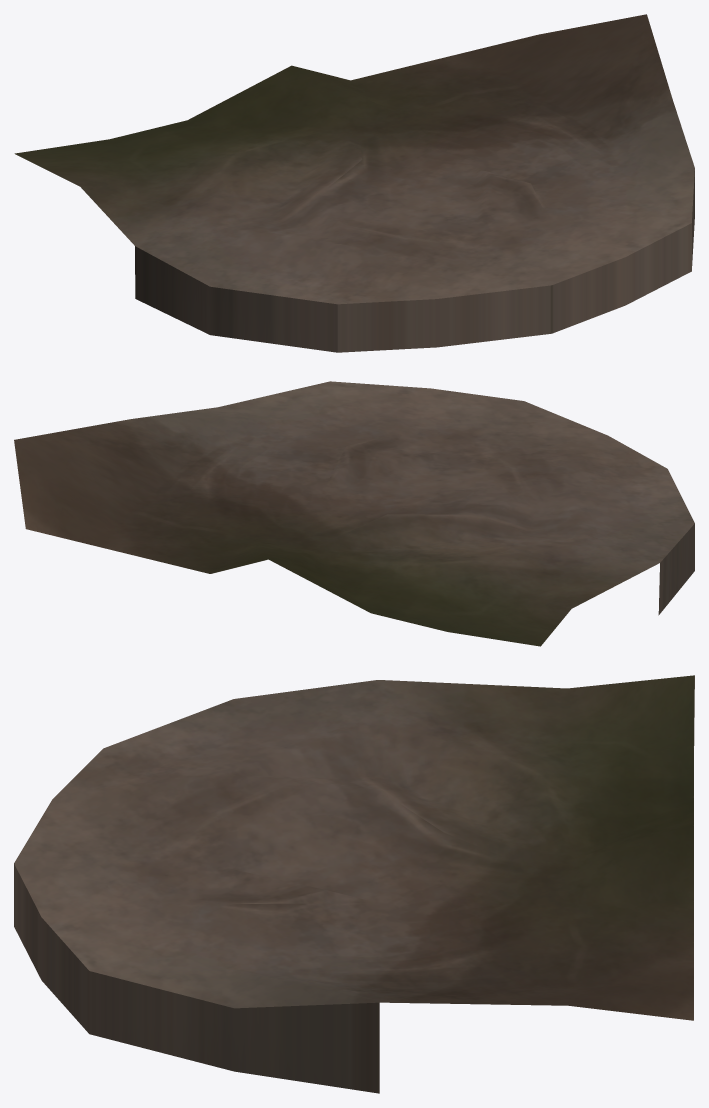
Rendered from PlatformV3.fbx.
3 views of the same model, one above another, from view 1: azimuth 30°, elevation 25°; view 2: azimuth 150°, elevation 25°; view 3: azimuth 270°, elevation 25° (orthographic). The views are drawn at different scales.
Visible parts, largest first — view 1: platform; view 2: platform; view 3: platform.
Boxes of the visible parts, bbox=[...] form: platform: bbox=[14, 14, 694, 352]; platform: bbox=[14, 381, 694, 646]; platform: bbox=[14, 675, 694, 1093].
Bounding box in the file's own units: 10.01 × 1.46 × 7.73.
